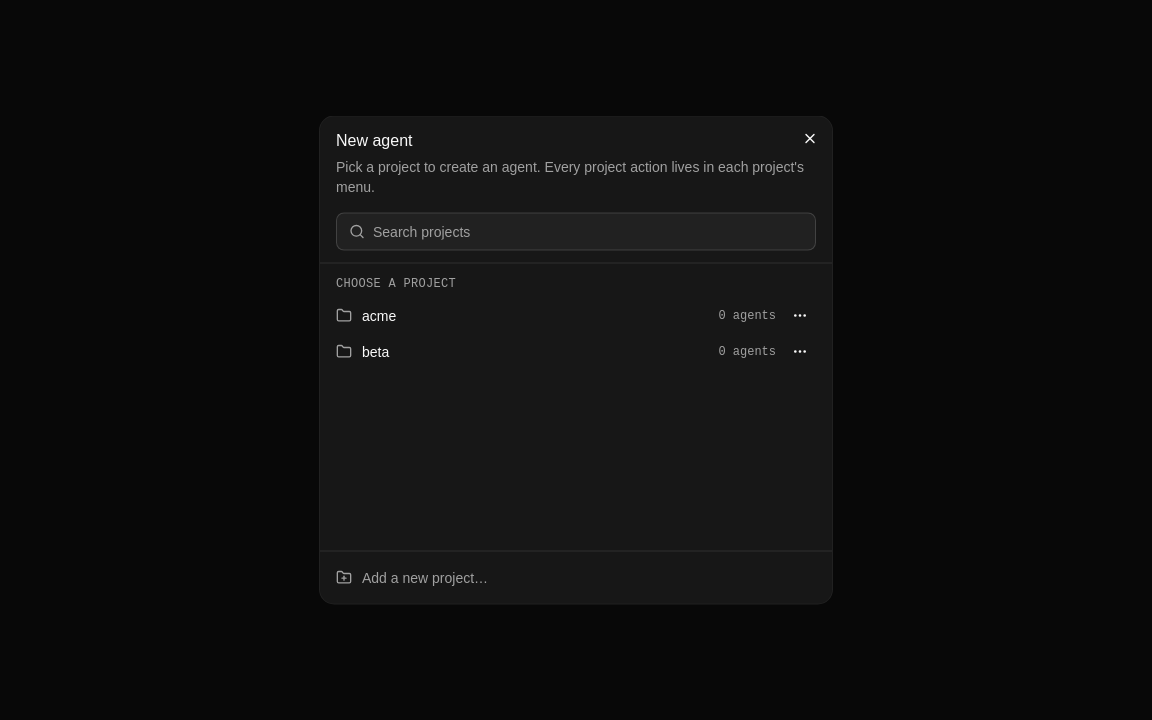
Test: NewAgentPickerDialog › names the search that matched nothing as a chip
Step 1. Type "zzz" into the field labelled "Search projects" → point(588, 232), box [373, 214, 803, 250]
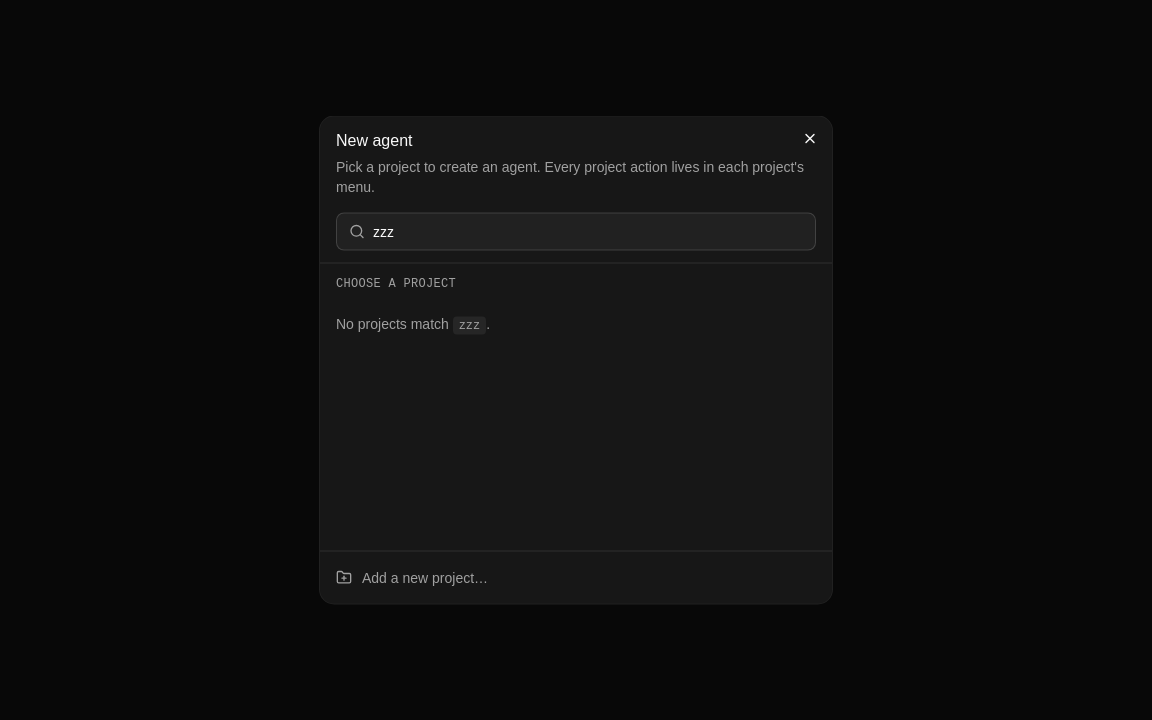
Expected: the text "No projects match zzz." is shown, [336, 316, 490, 334]
Expected: the text "zzz" is shown, [453, 316, 486, 334]
